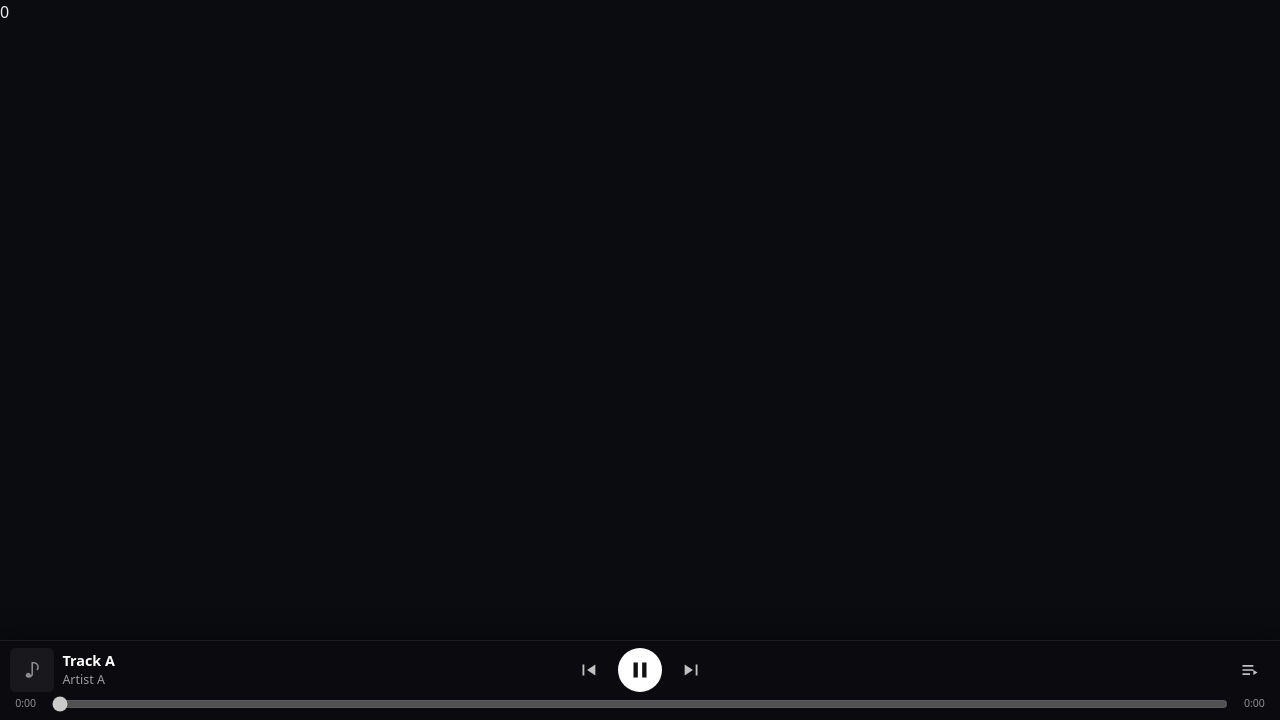
Test: NowPlayingBar — compact mobile layout › expands to a full-screen player with all controls and a queue button
The width and height of the screenshot is (1280, 720).
Click the button with aria-label "Abrir reproductor: Track A" at (32, 670), box [8,648,564,692]
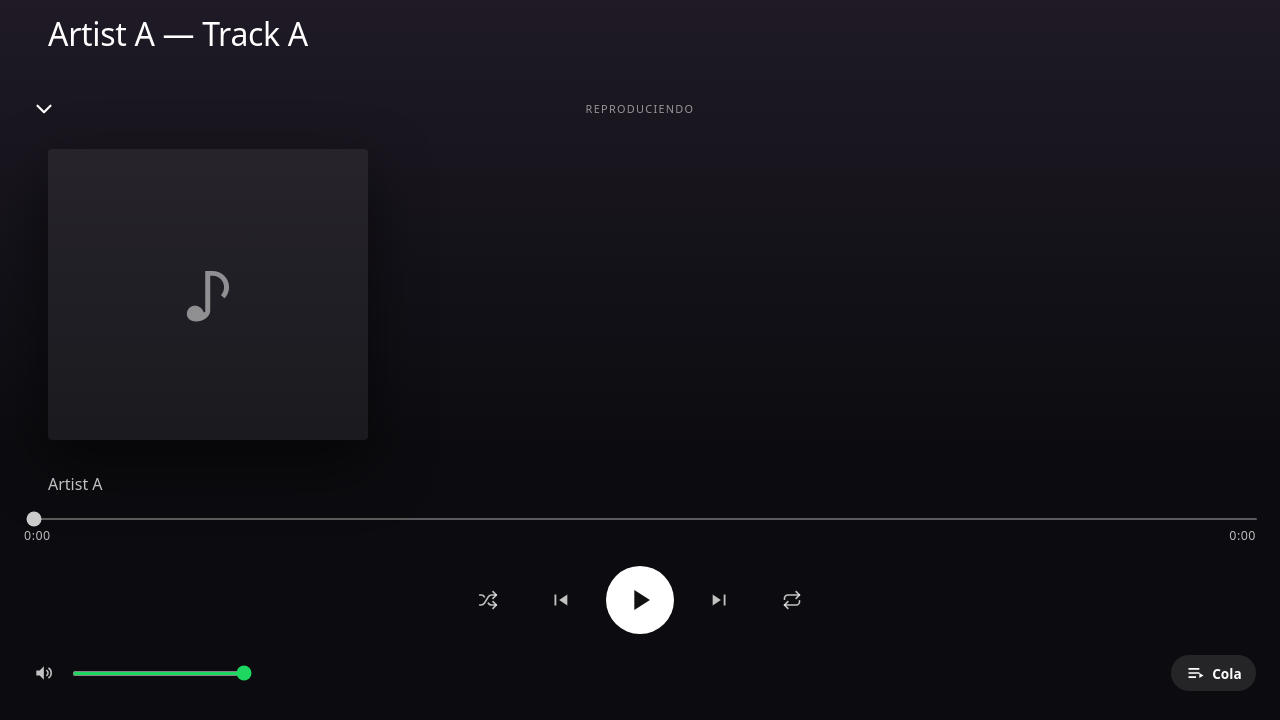
Expected: the dialog "Reproduciendo" is shown
Expected: the button named "Contraer reproductor" is shown, [24,89,64,129]
Expected: the button named "Anterior" is shown, [534,574,586,626]
